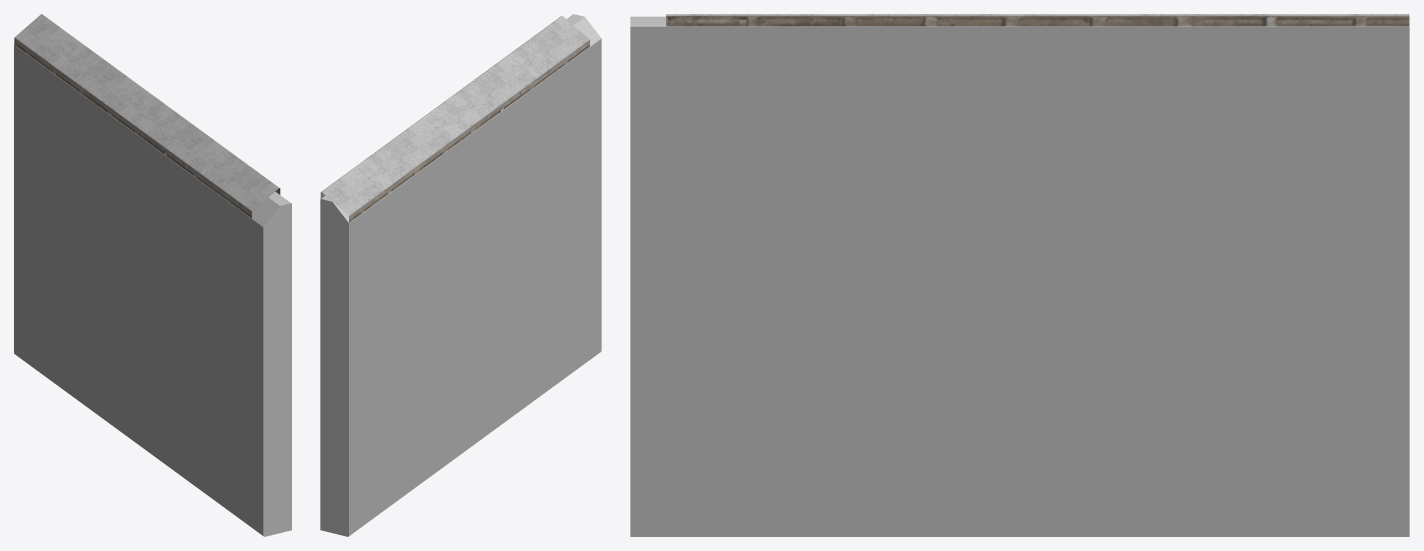
Rendered from SM_SJB_StoneWall04A.fbx.
3 renders of one model, left to right at view 1: azimuth 30°, elevation 25°; view 2: azimuth 150°, elevation 25°; view 3: azimuth 270°, elevation 25°, orthographic. The views are drawn at different scales.
Visible parts, largest first — view 1: SM_SJB_StoneWall04A_ConvexHulls, SM_SJB_StoneWall04A; view 2: SM_SJB_StoneWall04A_ConvexHulls, SM_SJB_StoneWall04A; view 3: SM_SJB_StoneWall04A_ConvexHulls, SM_SJB_StoneWall04A.
Boxes of the visible parts, <box> form: SM_SJB_StoneWall04A_ConvexHulls: <box>14,44,291,536</box>; SM_SJB_StoneWall04A: <box>14,14,280,218</box>; SM_SJB_StoneWall04A_ConvexHulls: <box>320,14,601,536</box>; SM_SJB_StoneWall04A: <box>320,15,589,222</box>; SM_SJB_StoneWall04A_ConvexHulls: <box>630,16,1409,536</box>; SM_SJB_StoneWall04A: <box>666,14,1409,26</box>.
Bounding box in the file's own units: 17 × 257 × 190.
Materials: 2 (1 with a texture image).
